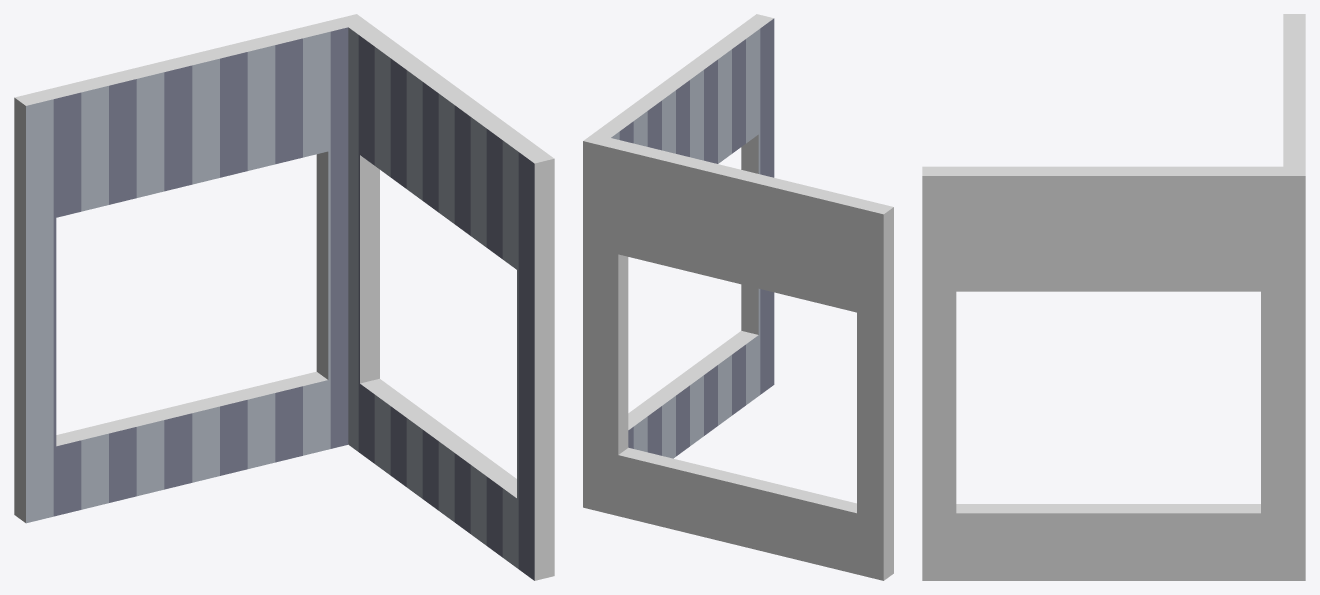
Rendered from Wall1_C8_15.fbx.
3 views of the same model, side by side, from view 1: azimuth 30°, elevation 25°; view 2: azimuth 150°, elevation 25°; view 3: azimuth 270°, elevation 25° (orthographic). The views are drawn at different scales.
Parts seen in each view (by area): view 1: Wall1_C8_15; view 2: Wall1_C8_15; view 3: Wall1_C8_15.
Part boxes in pixels (x1,y1,x2,y2): Wall1_C8_15: (14, 14, 554, 580); Wall1_C8_15: (583, 14, 893, 580); Wall1_C8_15: (922, 14, 1305, 580).
Bounding box in the file's own units: 258 × 300 × 258.
